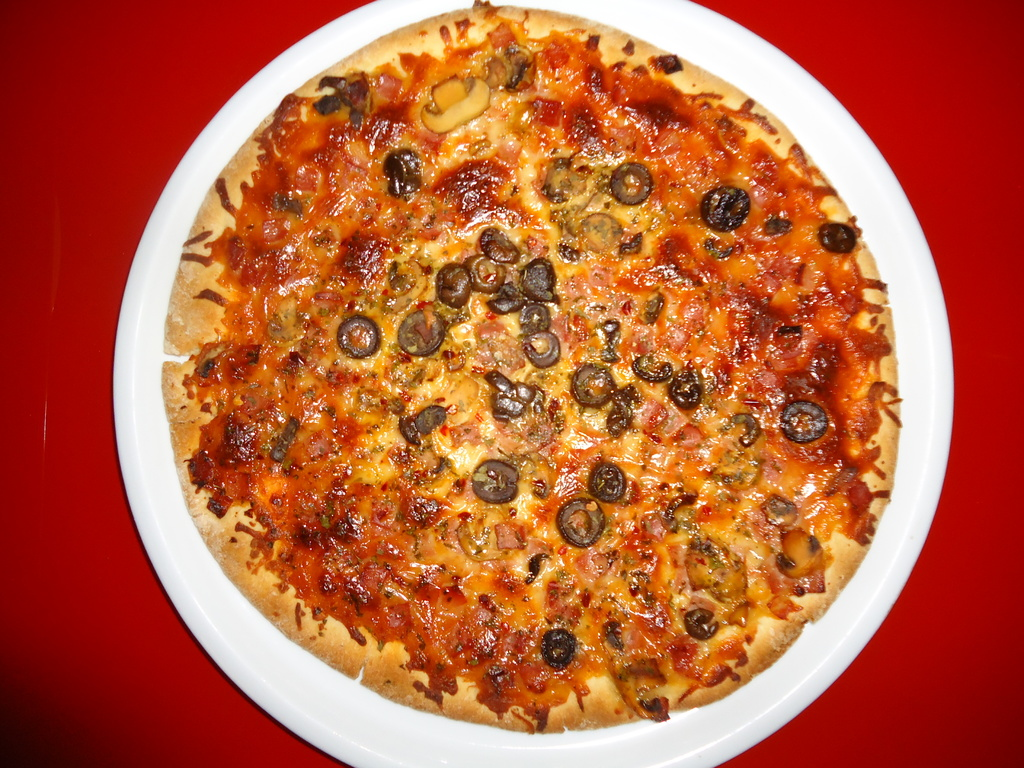Pizza: (158, 0, 903, 733)
